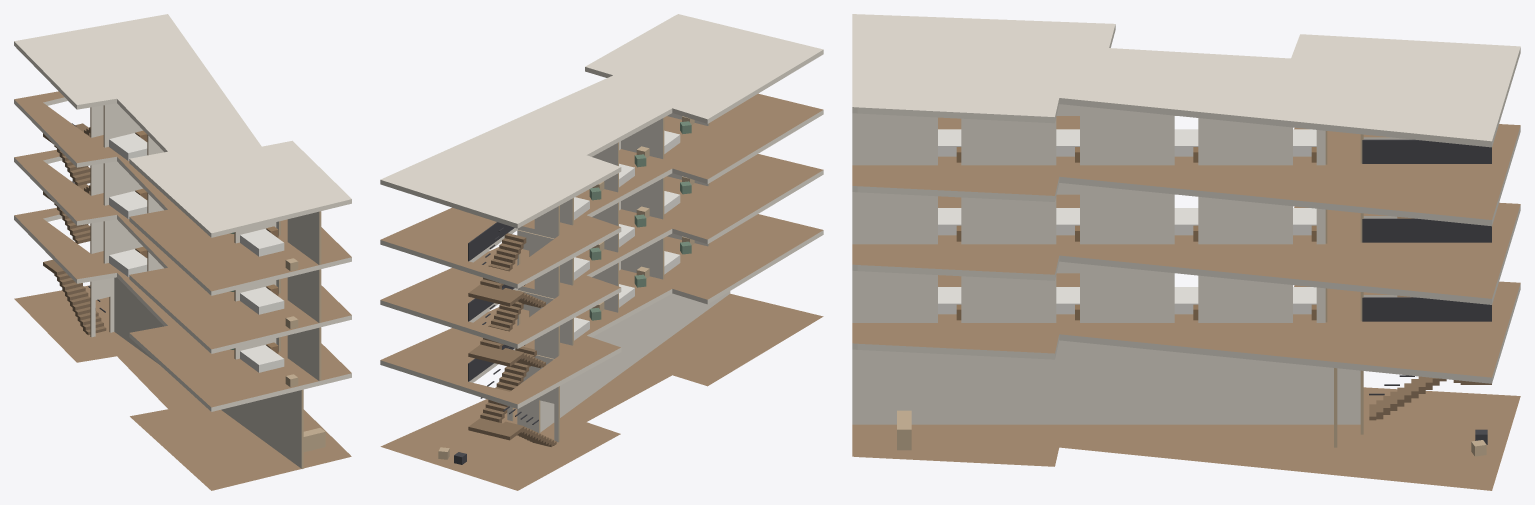
The model's file is interior.glb.
3 views of the same model, side by side, from view 1: azimuth 30°, elevation 25°; view 2: azimuth 150°, elevation 25°; view 3: azimuth 270°, elevation 25° (orthographic). The views are drawn at different scales.
Visible parts, largest first — view 1: slabs, partitions, stair, coarse-s2, coarse-s3, coarse-s1, coarse-s0; view 2: slabs, partitions, stair, coarse-s1, coarse-s2, coarse-s3; view 3: slabs, partitions, stair, coarse-s2, coarse-s3, coarse-s1, coarse-s0.
Boxes of the visible parts, x1=… form: slabs: x1=14, y1=14, x2=351, y2=490; partitions: x1=90, y1=103, x2=321, y2=468; stair: x1=43, y1=123, x2=106, y2=334; coarse-s2: x1=109, y1=188, x2=298, y2=328; coarse-s3: x1=109, y1=130, x2=298, y2=270; coarse-s1: x1=109, y1=246, x2=298, y2=387; coarse-s0: x1=303, y1=428, x2=325, y2=452; slabs: x1=380, y1=14, x2=823, y2=490; partitions: x1=507, y1=113, x2=730, y2=442; stair: x1=468, y1=222, x2=556, y2=446; coarse-s1: x1=574, y1=236, x2=694, y2=340; coarse-s2: x1=574, y1=176, x2=694, y2=280; coarse-s3: x1=574, y1=116, x2=694, y2=219; slabs: x1=852, y1=14, x2=1520, y2=490; partitions: x1=852, y1=104, x2=1363, y2=447; stair: x1=1362, y1=139, x2=1491, y2=420; coarse-s2: x1=938, y1=208, x2=1316, y2=241; coarse-s3: x1=938, y1=129, x2=1316, y2=162; coarse-s1: x1=938, y1=287, x2=1316, y2=320; coarse-s0: x1=897, y1=410, x2=1487, y2=456.
Size of the model in its own units: 11.56 by 14.82 by 25.65.
